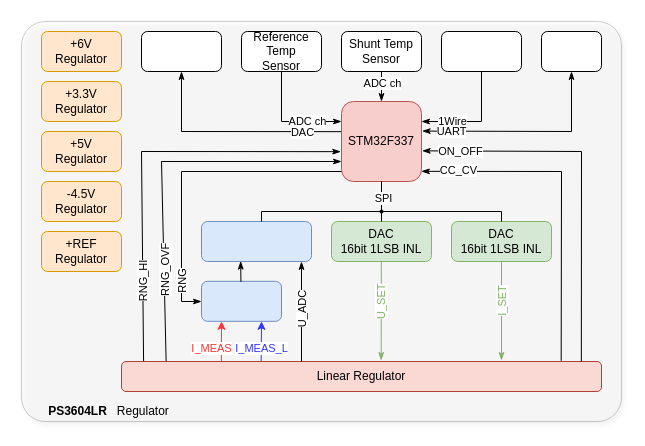
The diagram is 645 pixels wide and 446 high, and some of its shapes have lost their labels. Here are the shapes that lost their labels. From the top down, the centre of each, then its label:
At point (181, 51): "Fan linear Regulator".
At point (481, 51): "Radiator Temp Sensor".
At point (571, 51): "UART Connector J1".
At point (256, 241): "Dual ADC 16/18bit".
At point (241, 300): "Analog Multiplexer".
